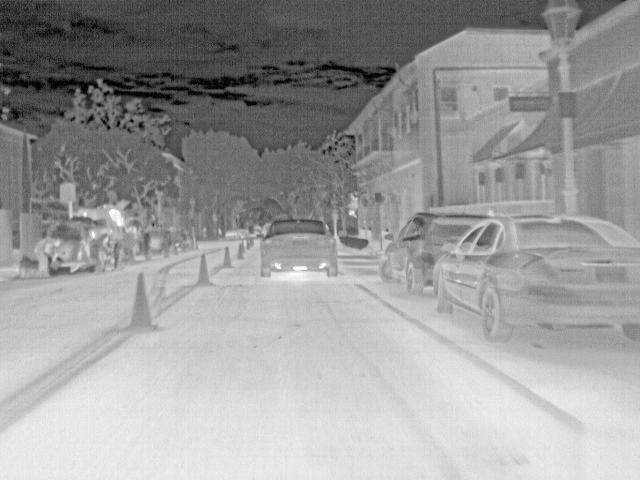car: (434, 213, 639, 342), (258, 218, 338, 278), (378, 210, 433, 292), (61, 215, 93, 272), (145, 225, 168, 256), (168, 225, 191, 247), (260, 222, 272, 234)
person: (33, 234, 61, 278), (95, 233, 114, 271), (123, 226, 138, 261)
